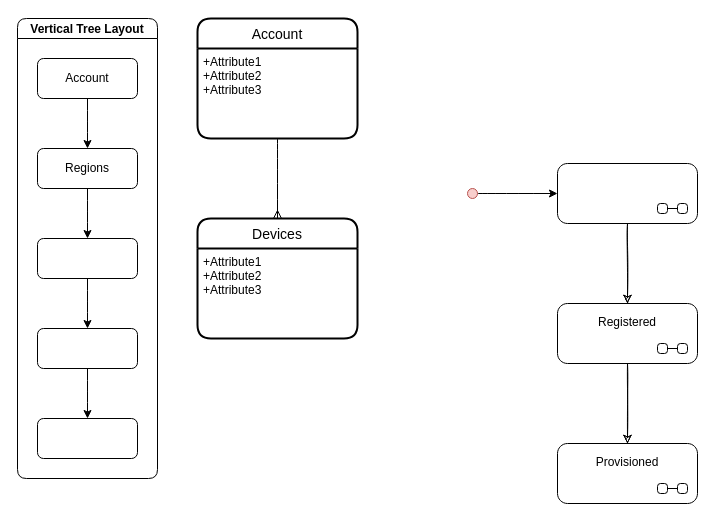
Image size: 715x521. Some labels were removed from this diagram. Here are the shapes that lost their labels. From the top down, the box of each, then its label:
(556, 162, 698, 224): Init
(36, 238, 138, 278): Locations
(36, 328, 138, 368): Areas
(36, 418, 138, 458): Sources
